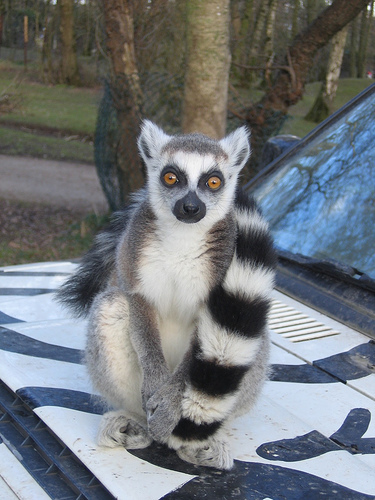cat: (52, 113, 280, 471)
